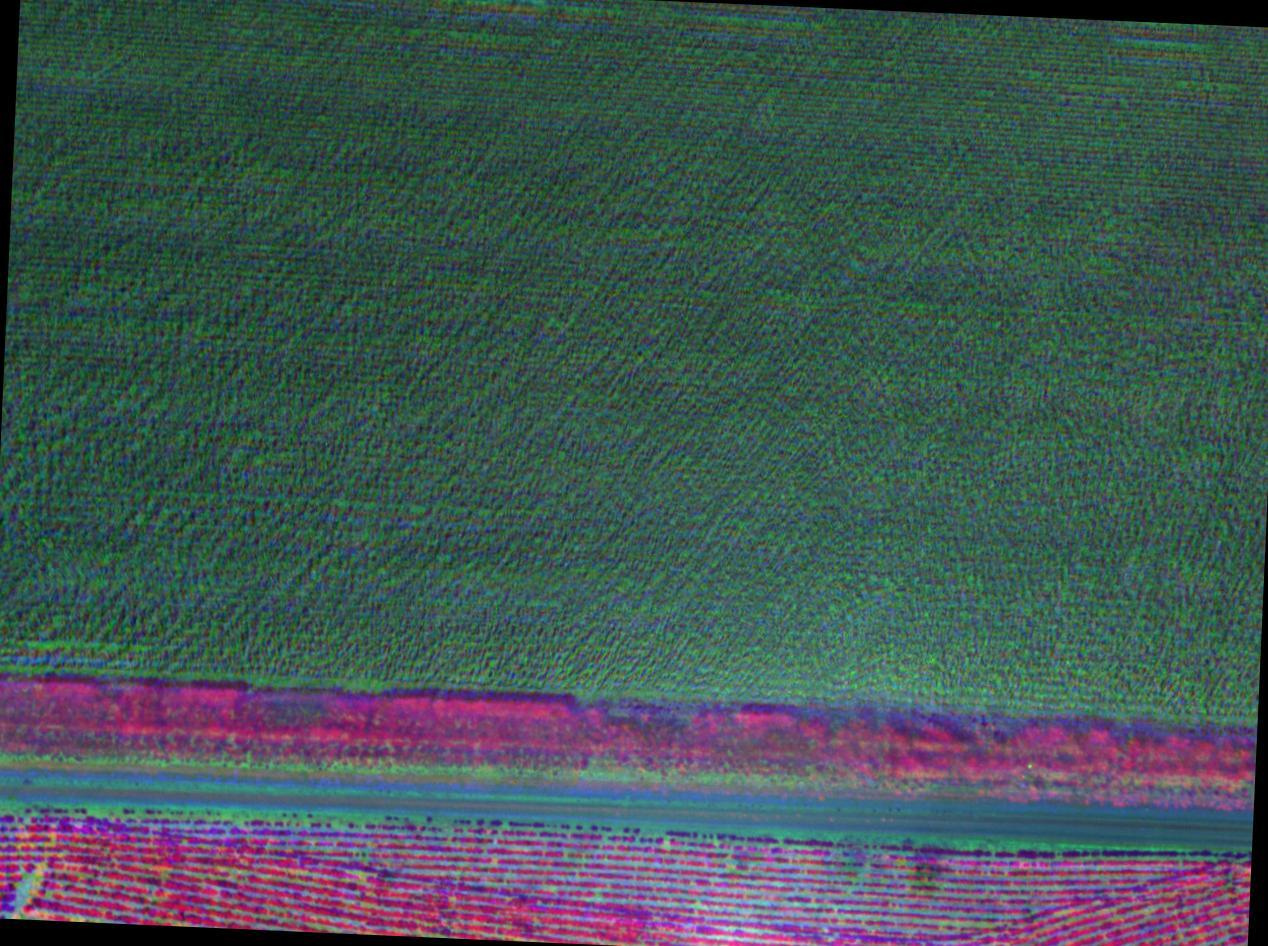dc: (0, 823, 89, 918), (895, 828, 972, 922)
